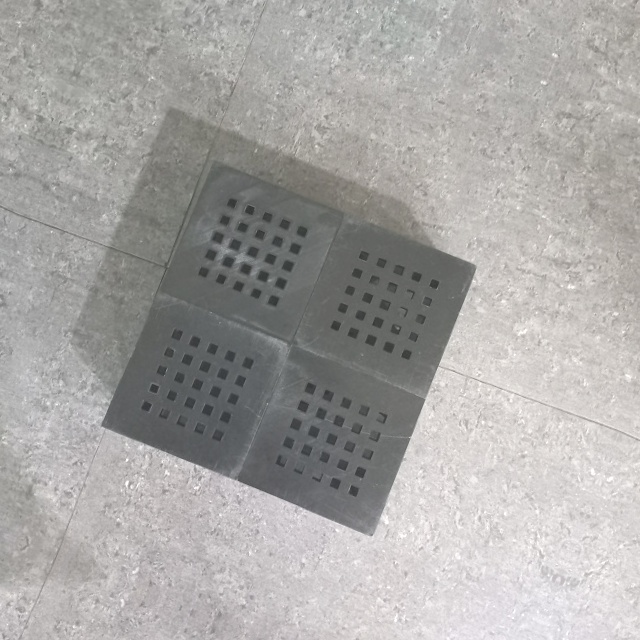pallet: (95, 153, 482, 544)
